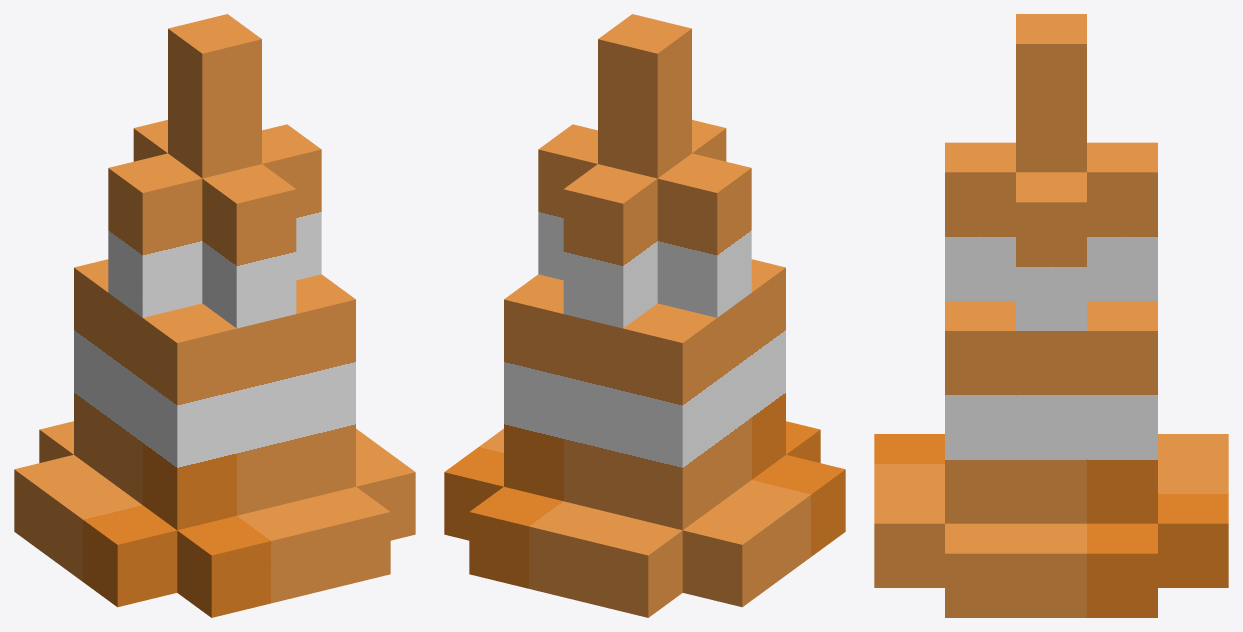
File: roadcone3.obj
3 views of the same model, side by side, from view 1: azimuth 30°, elevation 25°; view 2: azimuth 150°, elevation 25°; view 3: azimuth 270°, elevation 25° (orthographic). The views are drawn at different scales.
Parts seen in each view (by area): view 1: YellowMushroom_5; view 2: YellowMushroom_5; view 3: YellowMushroom_5.
Boxes of the visible parts, x1,y1,x2,y2 form: YellowMushroom_5: [14, 14, 415, 617]; YellowMushroom_5: [444, 14, 845, 617]; YellowMushroom_5: [874, 14, 1228, 617].
Bounding box in the file's own units: 5 × 8 × 5.
1 material, 1 textured.
